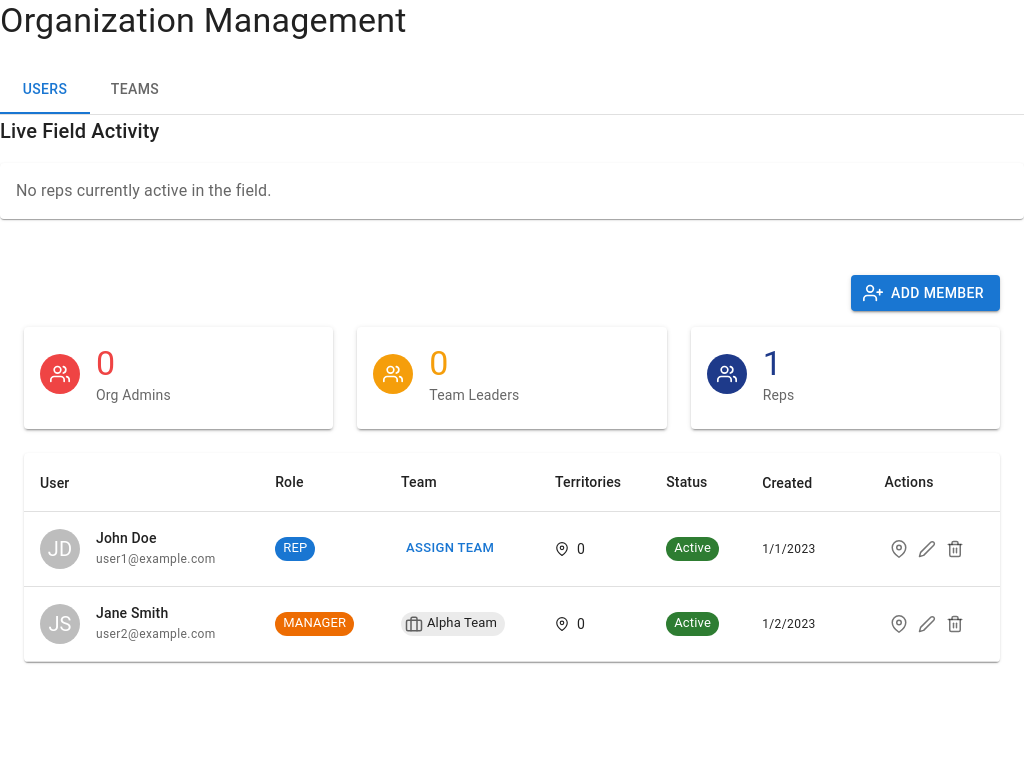
Test: TeamManagement Component › opens create team dialog
The width and height of the screenshot is (1024, 768).
Click the tab "Teams" at [135, 90], box [90, 66, 180, 114]
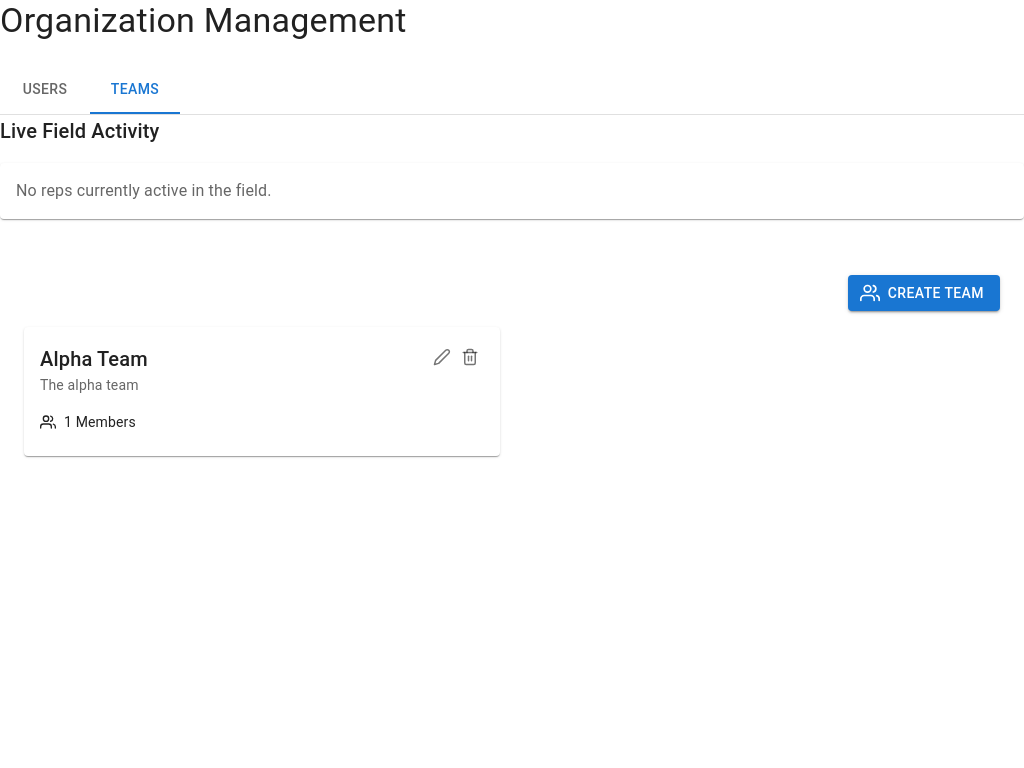
Result: the button "Create Team" is shown
Click the button "Create Team" at [924, 293], box [848, 275, 1000, 312]
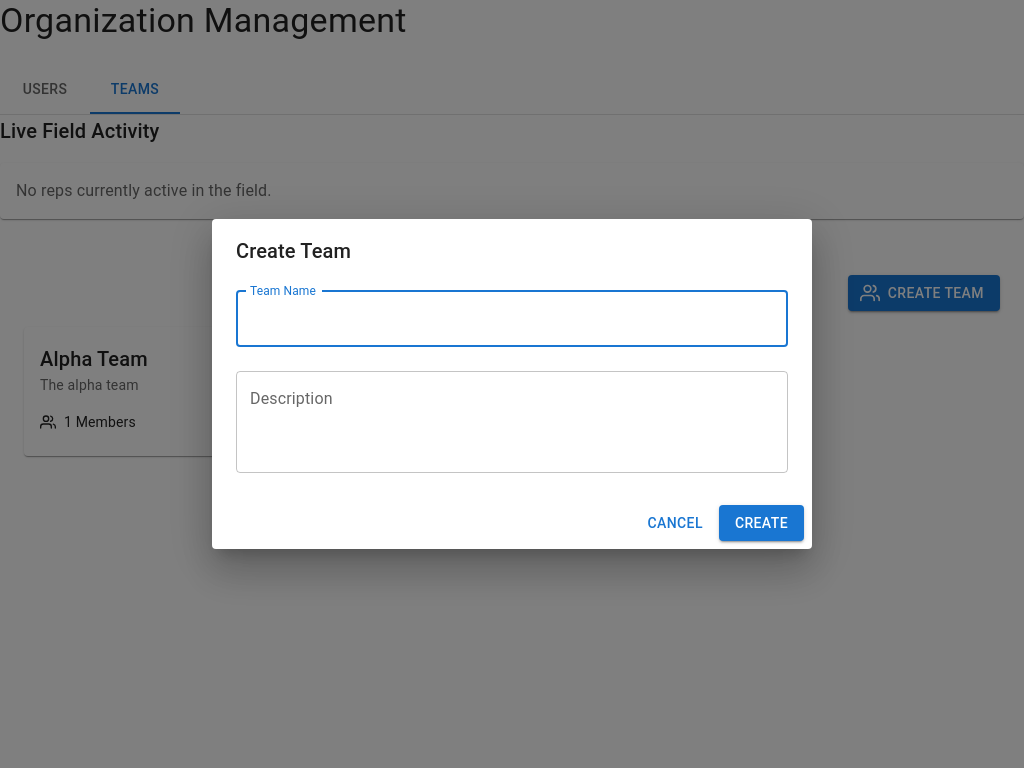
Result: the dialog is shown at [212, 219, 812, 549]
Result: the field labelled "Team Name" is shown at [236, 291, 788, 347]
